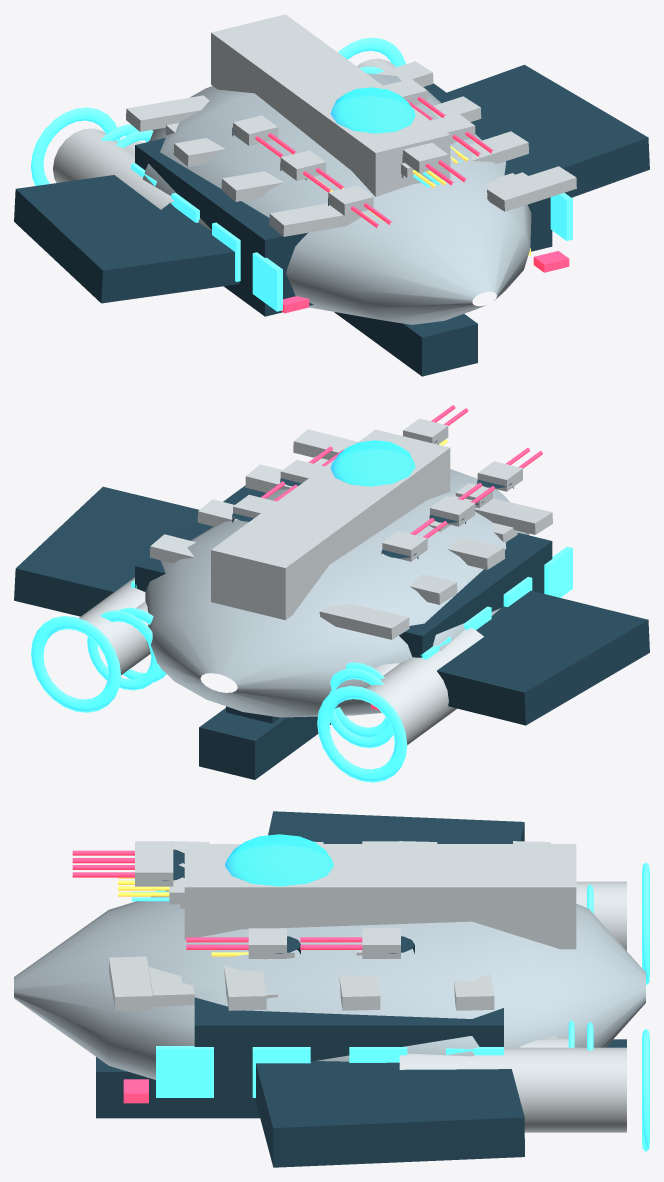
Rendered from orbital-hq-alliance.gltf.
3 renders of one model, top to bottom at view 1: azimuth 30°, elevation 25°; view 2: azimuth 150°, elevation 25°; view 3: azimuth 270°, elevation 25°, orthographic. The views are drawn at different scales.
Parts seen in each view (by area): view 1: main_hull, wing_port, dorsal_command_spine, wing_starboard, flight_deck_-1, ventral_keel, engine_nacelle_port, bridge, flight_deck_1, armor_panel_8, armor_panel_7, armor_panel_1 (+17 smaller); view 2: main_hull, dorsal_command_spine, wing_port, wing_starboard, ventral_keel, flight_deck_-1, engine_nozzle_port (×3), engine_nozzle_starboard (×2), engine_nacelle_port, bridge, engine_nacelle_starboard, armor_panel_1 (+15 smaller); view 3: main_hull, dorsal_command_spine, wing_starboard, flight_deck_1, engine_nacelle_starboard, wing_port, bridge, ventral_keel, armor_panel_8 (×2), hangar_1_3, engine_nacelle_port, armor_panel_6 (+11 smaller).
Part boxes in pixels (x1,y1,x2,y2): main_hull: [143, 73, 531, 324]; wing_port: [14, 175, 239, 303]; dorsal_command_spine: [211, 14, 450, 196]; wing_starboard: [447, 64, 649, 197]; flight_deck_-1: [135, 137, 313, 316]; ventral_keel: [334, 312, 477, 376]; engine_nacelle_port: [53, 128, 174, 209]; bridge: [330, 87, 415, 133]; flight_deck_1: [423, 83, 552, 251]; armor_panel_8: [487, 166, 576, 211]; armor_panel_7: [269, 203, 360, 236]; armor_panel_1: [126, 95, 209, 131]; main_hull: [145, 469, 528, 717]; dorsal_command_spine: [211, 429, 450, 620]; wing_port: [437, 590, 649, 725]; wing_starboard: [14, 486, 198, 616]; ventral_keel: [199, 708, 330, 779]; flight_deck_-1: [399, 532, 552, 657]; engine_nozzle_port (×3): [317, 662, 407, 782]; engine_nozzle_starboard (×2): [31, 610, 160, 712]; engine_nacelle_port: [365, 628, 483, 744]; bridge: [330, 440, 415, 486]; engine_nacelle_starboard: [79, 577, 150, 675]; armor_panel_1: [319, 604, 409, 639]; main_hull: [14, 896, 645, 1079]; dorsal_command_spine: [184, 844, 576, 949]; wing_starboard: [255, 1061, 524, 1167]; flight_deck_1: [194, 997, 503, 1116]; engine_nacelle_starboard: [399, 1047, 626, 1132]; wing_port: [268, 811, 524, 843]; bridge: [224, 834, 333, 886]; ventral_keel: [96, 1039, 626, 1118]; armor_panel_8 (×2): [109, 956, 184, 1010]; hangar_1_3: [156, 1046, 213, 1097]; engine_nacelle_port: [576, 881, 626, 950]; armor_panel_6: [224, 965, 266, 1010].
Size of the model in its own units: 81.13 by 31.05 by 68.43.
